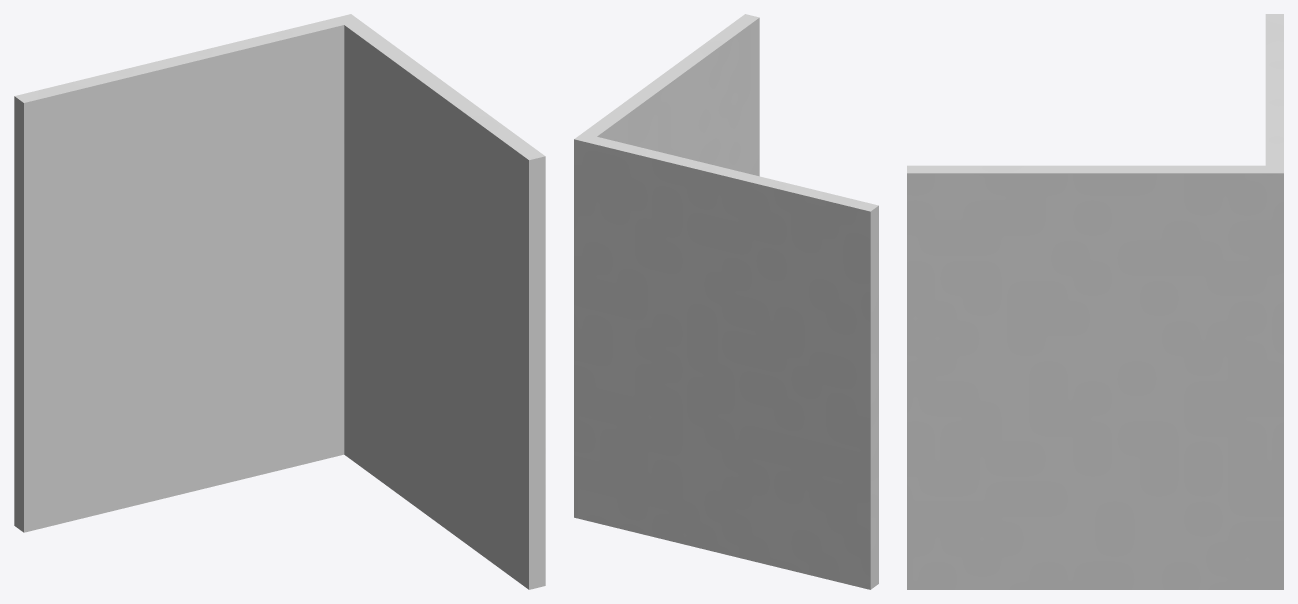
The model's file is Wall_02_LShape.fbx.
3 views of the same model, side by side, from view 1: azimuth 30°, elevation 25°; view 2: azimuth 150°, elevation 25°; view 3: azimuth 270°, elevation 25° (orthographic). The views are drawn at different scales.
Visible parts, largest first — view 1: Wall_02_LShape; view 2: Wall_02_LShape; view 3: Wall_02_LShape.
Part boxes in pixels (<box>): Wall_02_LShape: <box>14,14,545,589</box>; Wall_02_LShape: <box>574,14,878,589</box>; Wall_02_LShape: <box>907,14,1283,589</box>.
Bounding box in the file's own units: 2.05 × 2.5 × 2.05.
